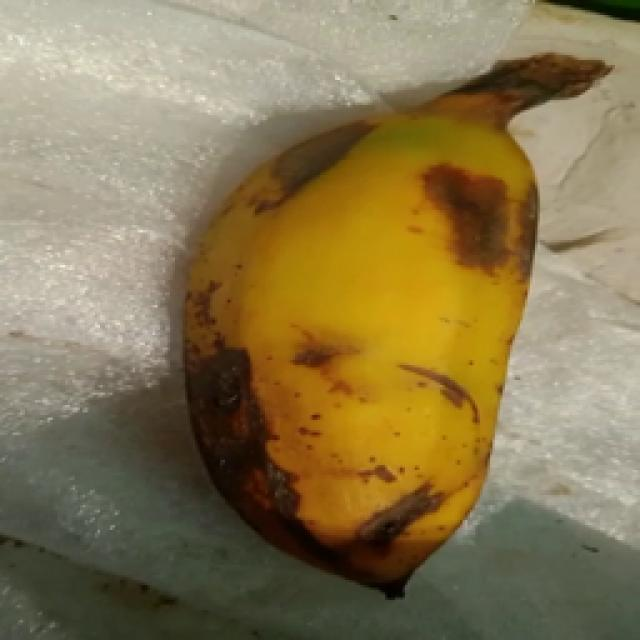Rotten_Banana: (169, 19, 627, 619)
